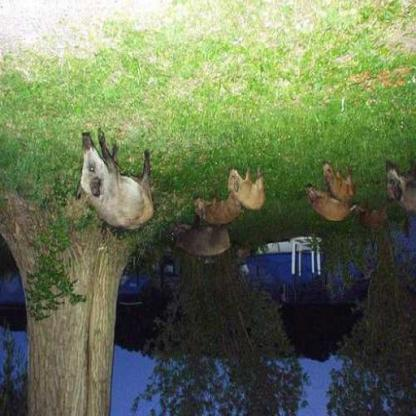boar: (68, 140, 153, 241), (223, 162, 280, 209), (300, 182, 366, 220), (374, 159, 415, 218), (194, 191, 245, 229), (318, 160, 362, 198), (174, 231, 239, 256)
